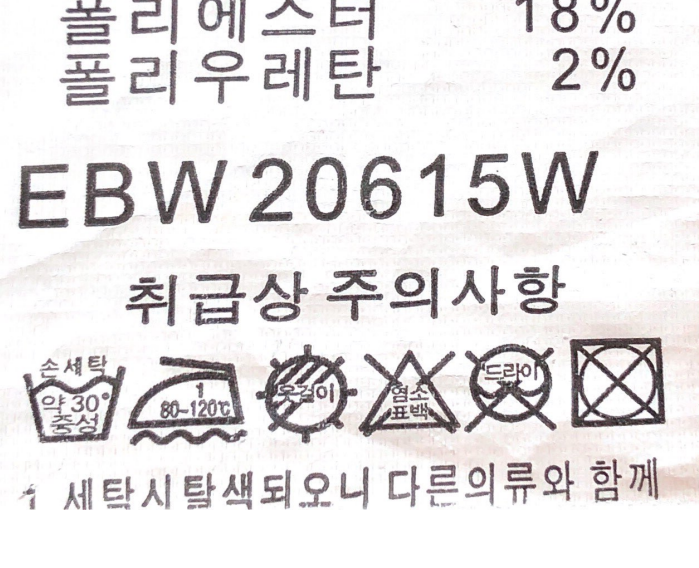KR_hand_wash_30_neutral: (18, 351, 124, 446)
KR_hang_dry_in_shade: (255, 338, 353, 443)
KR_iron_low_temp_with_cloth: (129, 346, 251, 452)
KR_no_chlorine_bleach: (361, 344, 463, 444)
KR_no_dry_clean: (459, 338, 558, 438)
KR_no_tumble_dry: (568, 330, 669, 435)
